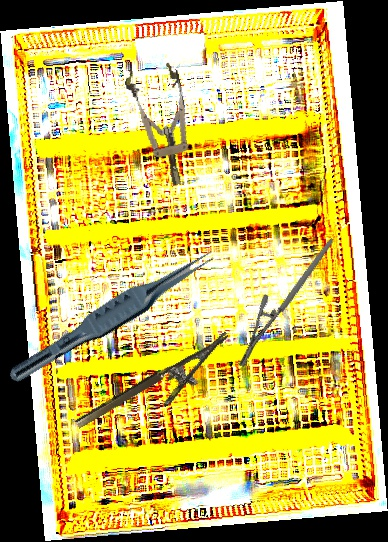Needle Holder: (73, 331, 244, 450), (209, 238, 364, 369)
Speculum: (122, 59, 203, 191)
Tissue Forceps: (5, 237, 221, 396)
